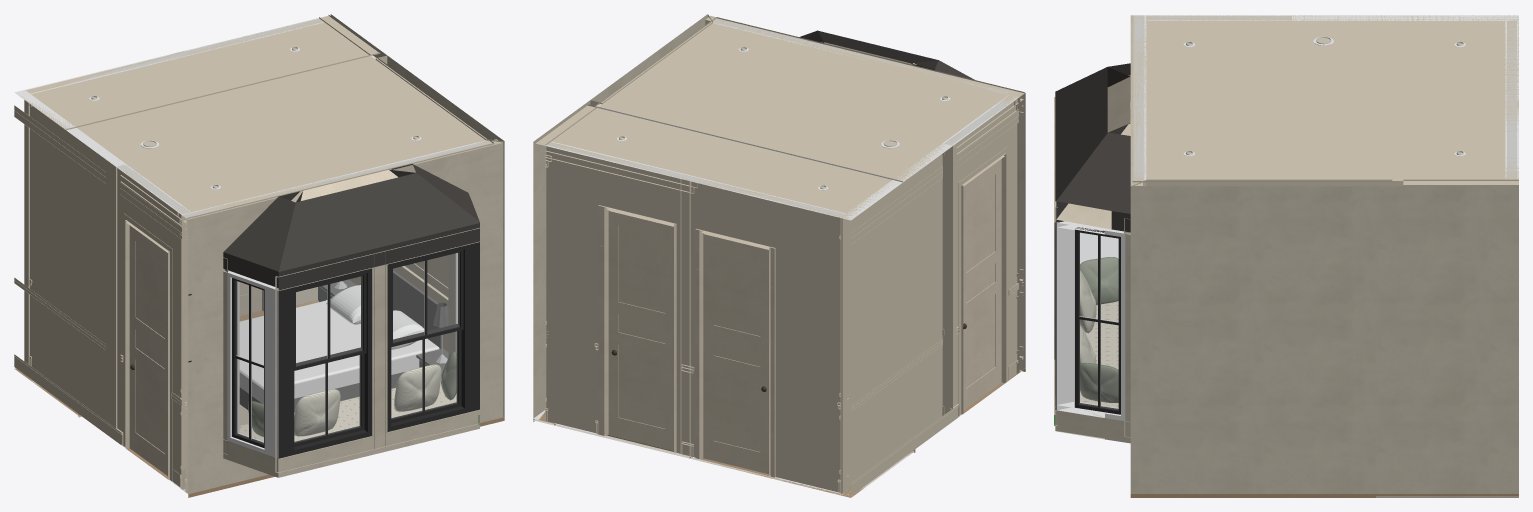
File: loli-bedroom-66523e0169a1.glb
3 views of the same model, side by side, from view 1: azimuth 30°, elevation 25°; view 2: azimuth 150°, elevation 25°; view 3: azimuth 270°, elevation 25° (orthographic). The views are drawn at different scales.
Parts seen in each view (by area): view 1: loli-bedroom-dbd60ee5c3733ed6, loli-bedroom-93447d0fea18c81b, loli-bedroom-6a1144f4e43410bb, loli-bedroom-fd1c2425c72e98e4, loli-bedroom-daa4f3edc919433a, loli-bedroom-4cda501b4aaed82b, loli-bedroom-2575515a05775d9e, loli-bedroom-4be2558270762b51, loli-bedroom-527014f532f46c8e, loli-bedroom-cf6d22c5317ced0b, loli-bedroom-75b75731e5e739a5, loli-bedroom-68d06b361ac47823 (+21 smaller); view 2: loli-bedroom-0e637d2be41161fb, loli-bedroom-dbd60ee5c3733ed6, loli-bedroom-6a1144f4e43410bb, loli-bedroom-5b37b110dc0e2cdc, loli-bedroom-eceff908bd344cec, loli-bedroom-2575515a05775d9e, loli-bedroom-68d06b361ac47823, loli-bedroom-cf6d22c5317ced0b, loli-bedroom-319244b3406409d9, loli-bedroom-93447d0fea18c81b, loli-bedroom-d6b1bc8c737b28e2, loli-bedroom-8cbce1d8f2f8a576 (+14 smaller); view 3: loli-bedroom-592bd9af2ed71797, loli-bedroom-dbd60ee5c3733ed6, loli-bedroom-319244b3406409d9, loli-bedroom-2575515a05775d9e, loli-bedroom-53e6a9e479527da3, loli-bedroom-daa4f3edc919433a, loli-bedroom-131a246e00605616, loli-bedroom-d8b729a36612415b, loli-bedroom-93447d0fea18c81b, loli-bedroom-0e637d2be41161fb, loli-bedroom-ad11484878029c25, loli-bedroom-e0a3201bd49c7536 (+9 smaller).
Boxes of the visible parts, x1,y1,x2,y2 form: loli-bedroom-dbd60ee5c3733ed6: (77,54,494,218); loli-bedroom-93447d0fea18c81b: (181,140,502,494); loli-bedroom-6a1144f4e43410bb: (14,90,125,428); loli-bedroom-fd1c2425c72e98e4: (279,268,371,458); loli-bedroom-daa4f3edc919433a: (278,169,479,290); loli-bedroom-4cda501b4aaed82b: (388,242,479,431); loli-bedroom-2575515a05775d9e: (17,15,380,130); loli-bedroom-4be2558270762b51: (239,270,448,412); loli-bedroom-527014f532f46c8e: (227,271,278,458); loli-bedroom-cf6d22c5317ced0b: (129,225,167,475); loli-bedroom-75b75731e5e739a5: (277,264,478,477); loli-bedroom-68d06b361ac47823: (116,164,190,487); loli-bedroom-0e637d2be41161fb: (545,141,847,493); loli-bedroom-dbd60ee5c3733ed6: (595,17,1024,182); loli-bedroom-6a1144f4e43410bb: (842,143,952,495); loli-bedroom-5b37b110dc0e2cdc: (703,233,768,474); loli-bedroom-eceff908bd344cec: (608,210,673,450); loli-bedroom-2575515a05775d9e: (535,104,893,220); loli-bedroom-68d06b361ac47823: (942,95,1018,420); loli-bedroom-cf6d22c5317ced0b: (963,159,1001,410); loli-bedroom-319244b3406409d9: (533,100,600,419); loli-bedroom-93447d0fea18c81b: (709,15,1025,372); loli-bedroom-d6b1bc8c737b28e2: (695,228,775,477); loli-bedroom-8cbce1d8f2f8a576: (961,153,1006,414); loli-bedroom-592bd9af2ed71797: (1130,179,1392,493); loli-bedroom-dbd60ee5c3733ed6: (1132,15,1403,182); loli-bedroom-319244b3406409d9: (1392,179,1518,493); loli-bedroom-2575515a05775d9e: (1403,15,1518,186); loli-bedroom-53e6a9e479527da3: (1056,221,1125,421); loli-bedroom-daa4f3edc919433a: (1055,67,1130,221); loli-bedroom-131a246e00605616: (1056,124,1130,232); loli-bedroom-d8b729a36612415b: (1055,234,1130,443); loli-bedroom-93447d0fea18c81b: (1130,15,1146,185); loli-bedroom-0e637d2be41161fb: (1505,20,1518,179); loli-bedroom-ad11484878029c25: (1147,177,1391,186); loli-bedroom-e0a3201bd49c7536: (1080,301,1118,407).
Size of the model in its own units: 3.62 by 3.05 by 4.12.
36 materials, 8 textured.
